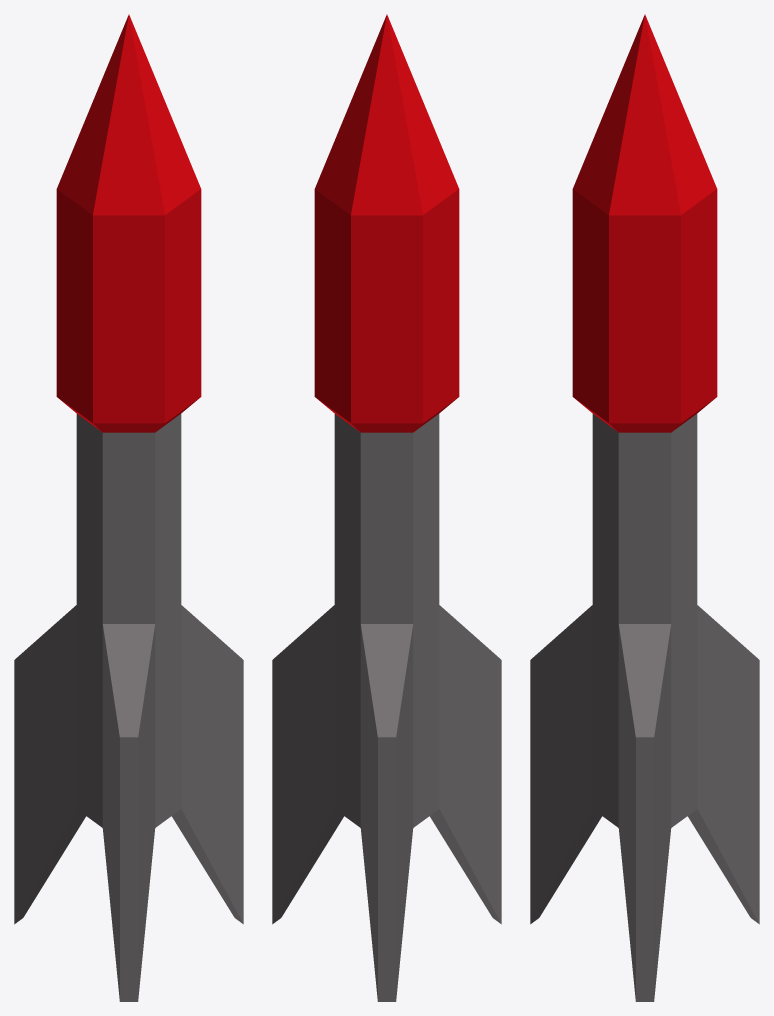
File: rocket.glb
The picture shows the model from 3 angles, left to right: view 1: azimuth 30°, elevation 25°; view 2: azimuth 150°, elevation 25°; view 3: azimuth 270°, elevation 25°; orthographic projection.
Parts seen in each view (by area): view 1: Rocket.001, Rocket; view 2: Rocket.001, Rocket; view 3: Rocket.001, Rocket.
Part boxes in pixels (left/top/right/bottom): Rocket.001: left=14, top=414, right=243, bottom=1001; Rocket: left=56, top=14, right=201, bottom=432; Rocket.001: left=272, top=414, right=501, bottom=1001; Rocket: left=314, top=14, right=459, bottom=432; Rocket.001: left=530, top=414, right=759, bottom=1001; Rocket: left=572, top=14, right=717, bottom=432.
Size of the model in its own units: 0.5241 by 2.72 by 0.6051.
